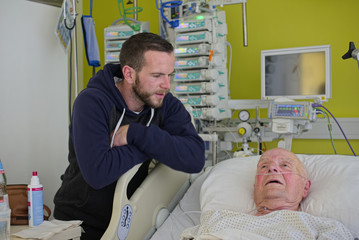family member: (101, 34, 192, 156)
patient: (248, 145, 315, 240)
